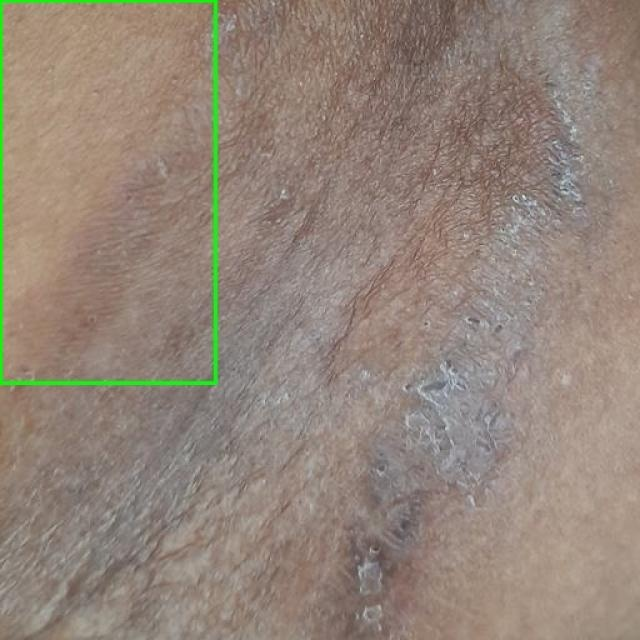Contact Dermatitis: (0, 0, 216, 384)
